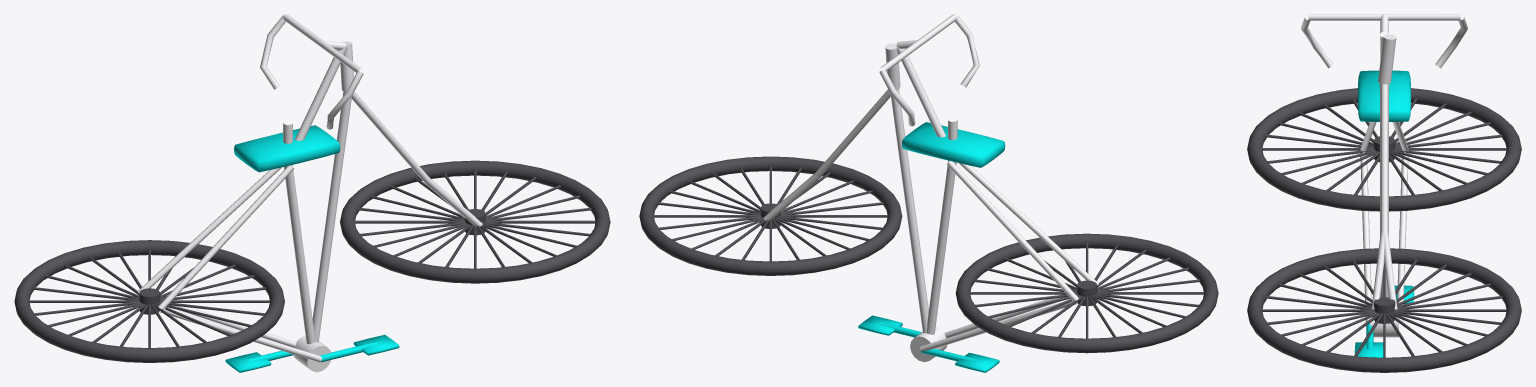
File: bike-climbing.glb
3 views of the same model, side by side, from view 1: azimuth 30°, elevation 25°; view 2: azimuth 150°, elevation 25°; view 3: azimuth 270°, elevation 25° (orthographic). The views are drawn at different scales.
Visible parts, largest first — view 1: frame, wheelFront, wheelRear, crank; view 2: frame, wheelFront, wheelRear, crank; view 3: wheelFront, wheelRear, frame, crank.
Boxes of the visible parts, bbox=[...] form: frame: bbox=[137, 14, 482, 372]; wheelFront: bbox=[340, 160, 610, 283]; wheelRear: bbox=[14, 240, 284, 362]; crank: bbox=[225, 334, 399, 372]; frame: bbox=[763, 14, 1098, 362]; wheelFront: bbox=[639, 156, 902, 275]; wheelRear: bbox=[955, 233, 1218, 353]; crank: bbox=[858, 315, 999, 372]; wheelFront: bbox=[1247, 248, 1521, 372]; wheelRear: bbox=[1247, 88, 1521, 211]; frame: bbox=[1301, 14, 1467, 337]; crank: bbox=[1354, 285, 1414, 357].
Bounding box in the file's own units: 1.72 × 0.9476 × 0.72.
